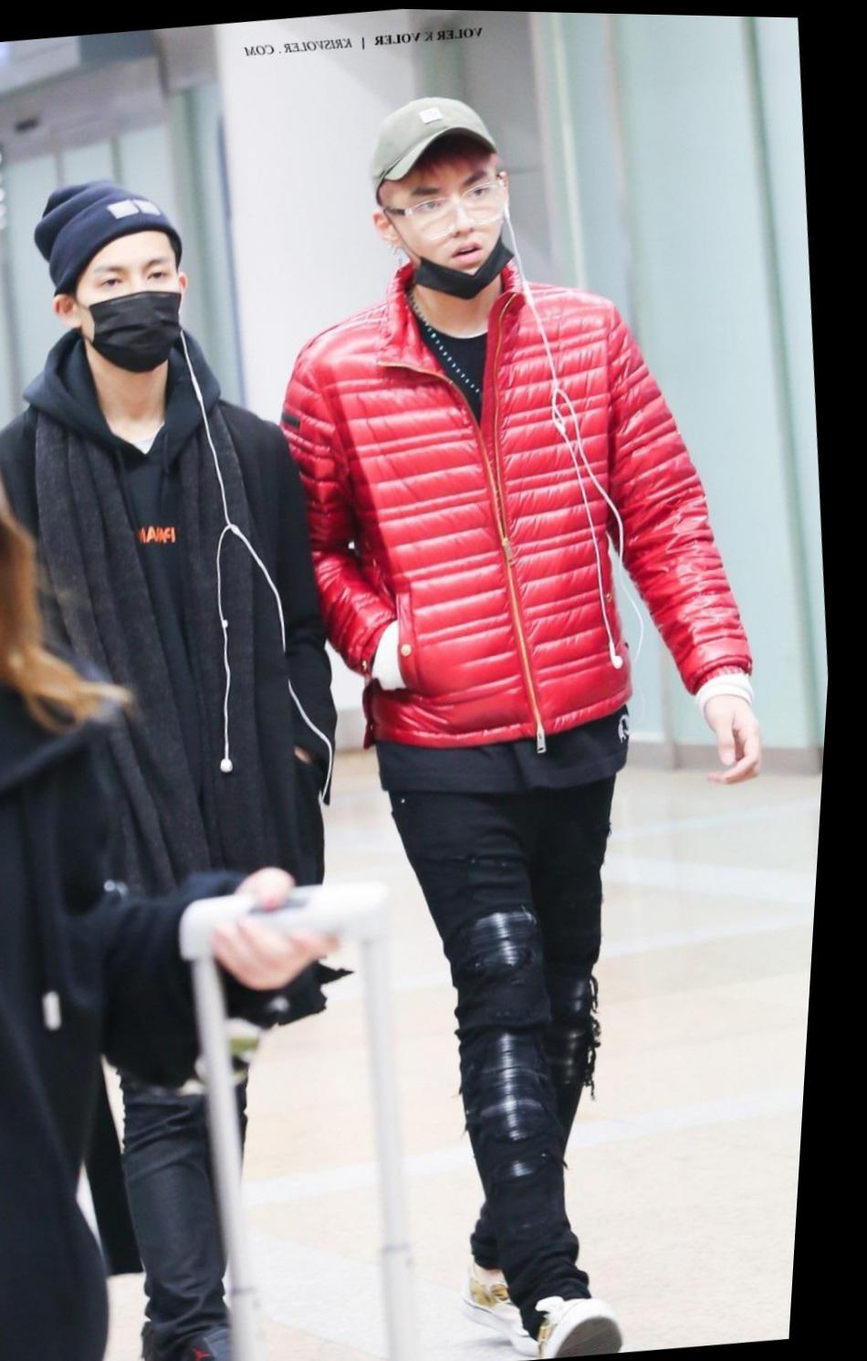OK: (82, 242, 193, 377)
WRONG: (391, 149, 517, 294)
